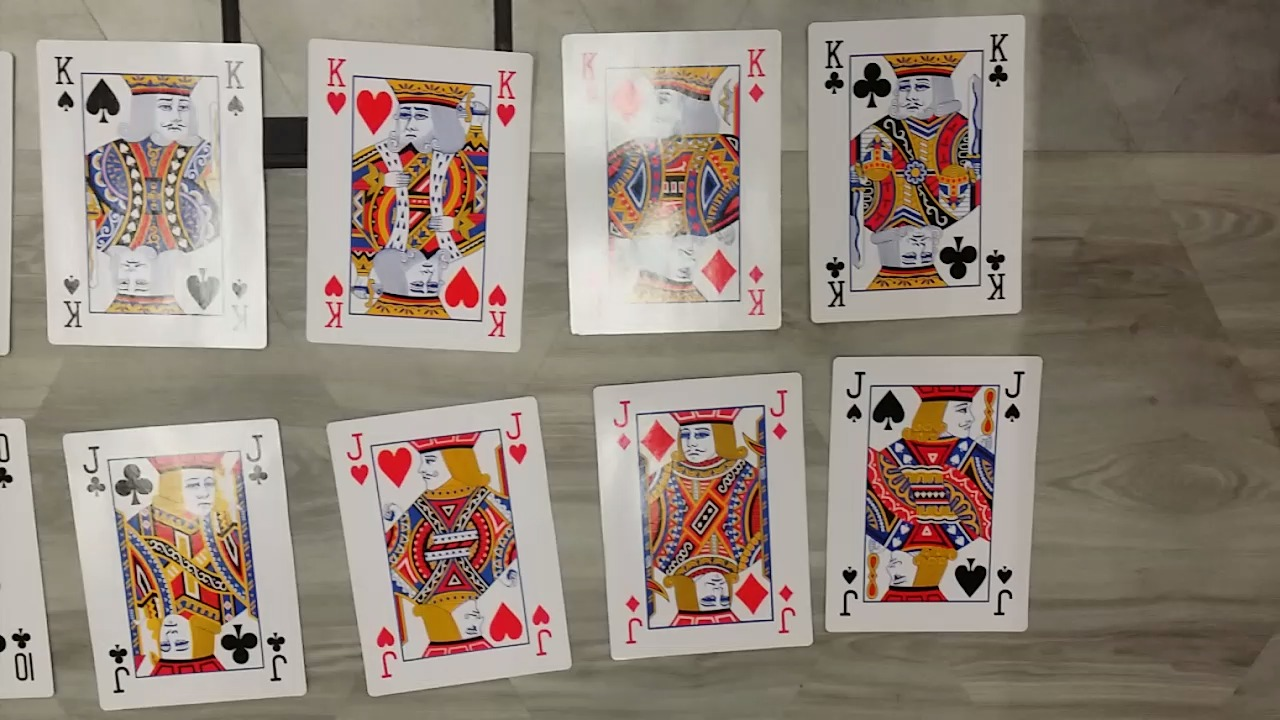10_diamond: (590, 368, 818, 662)
jack_club: (59, 417, 309, 713)
jack_heart: (324, 394, 571, 698)
jack_spade: (816, 351, 1041, 637)
king_club: (803, 13, 1029, 323)
king_diamond: (559, 26, 787, 336)
king_heart: (305, 35, 535, 353)
king_spade: (34, 40, 270, 349)
